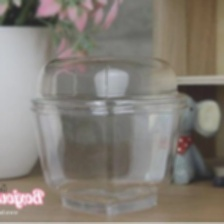glass: (27, 51, 192, 224)
